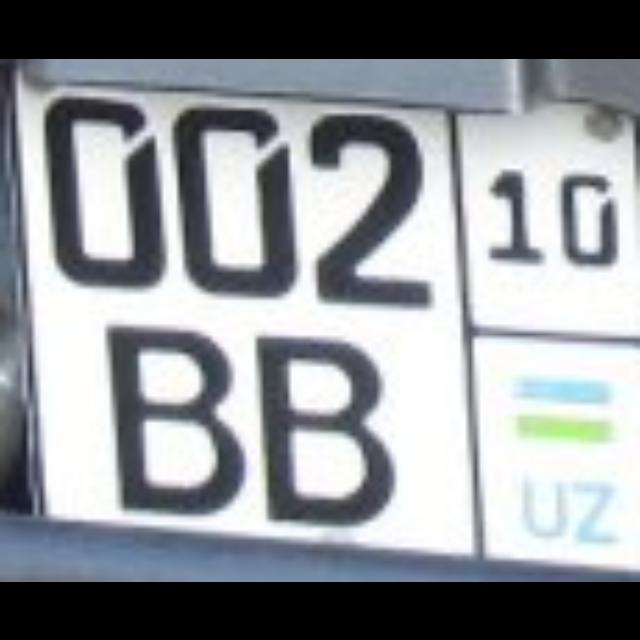0: (39, 86, 161, 280), (172, 97, 290, 281), (556, 170, 612, 258)
1: (484, 158, 534, 252)
2: (306, 102, 424, 298)
B: (256, 330, 390, 520), (106, 320, 240, 508)
